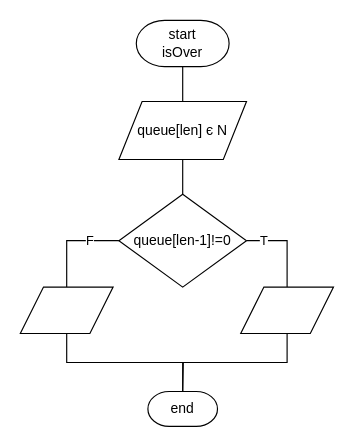
Image size: 354x447. Some labels were removed from this diagram. The centre of each missing label's shape, as x and y in pixels:
"false" goes at (x=66, y=310).
"true" goes at (x=287, y=310).
